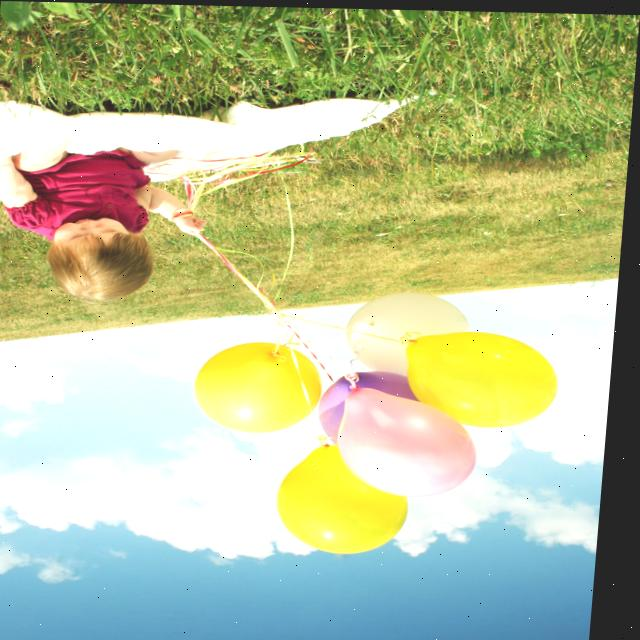balloon: (401, 333, 569, 422), (339, 383, 475, 492), (278, 444, 415, 547), (197, 337, 313, 433), (348, 289, 469, 371), (322, 370, 428, 436)
